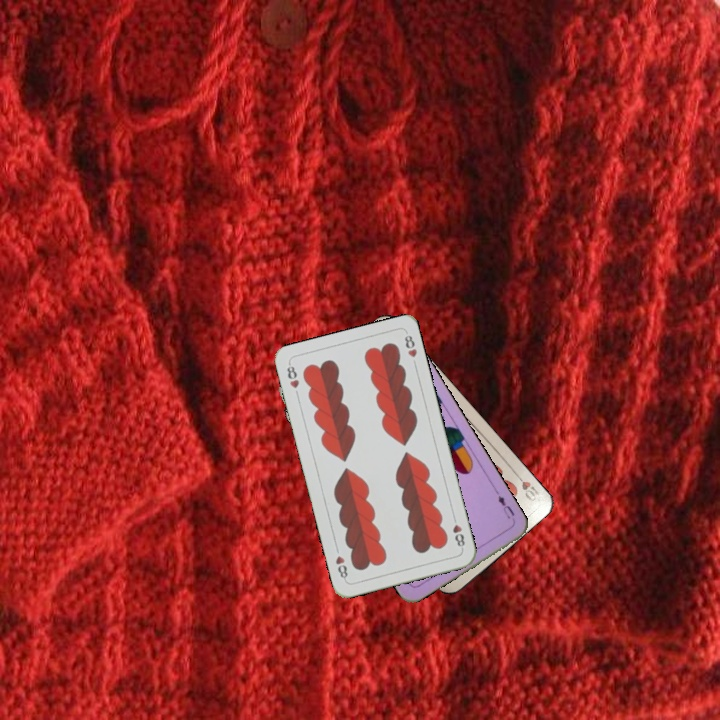EU: (492, 487, 517, 522)
H10: (511, 468, 544, 505)
H8: (449, 512, 467, 552), (283, 360, 302, 391)
